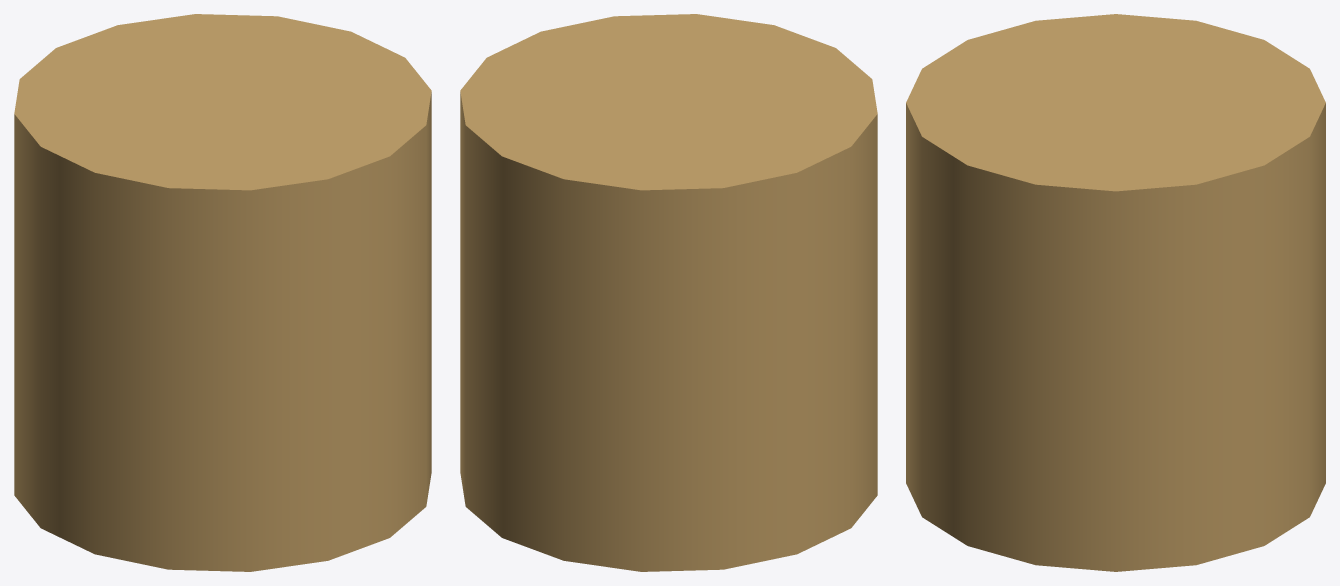
Rendered from p0125-kulich-paskha.glb.
The picture shows the model from 3 angles, left to right: view 1: azimuth 30°, elevation 25°; view 2: azimuth 150°, elevation 25°; view 3: azimuth 270°, elevation 25°; orthographic projection.
Visible parts, largest first — view 1: p0125-kulich-paskha; view 2: p0125-kulich-paskha; view 3: p0125-kulich-paskha.
Boxes of the visible parts, left/top/right/bottom form: p0125-kulich-paskha: left=14, top=14, right=431, bottom=571; p0125-kulich-paskha: left=460, top=14, right=877, bottom=571; p0125-kulich-paskha: left=906, top=14, right=1325, bottom=571.
Bounding box in the file's own units: 0.25 × 0.25 × 0.25.
